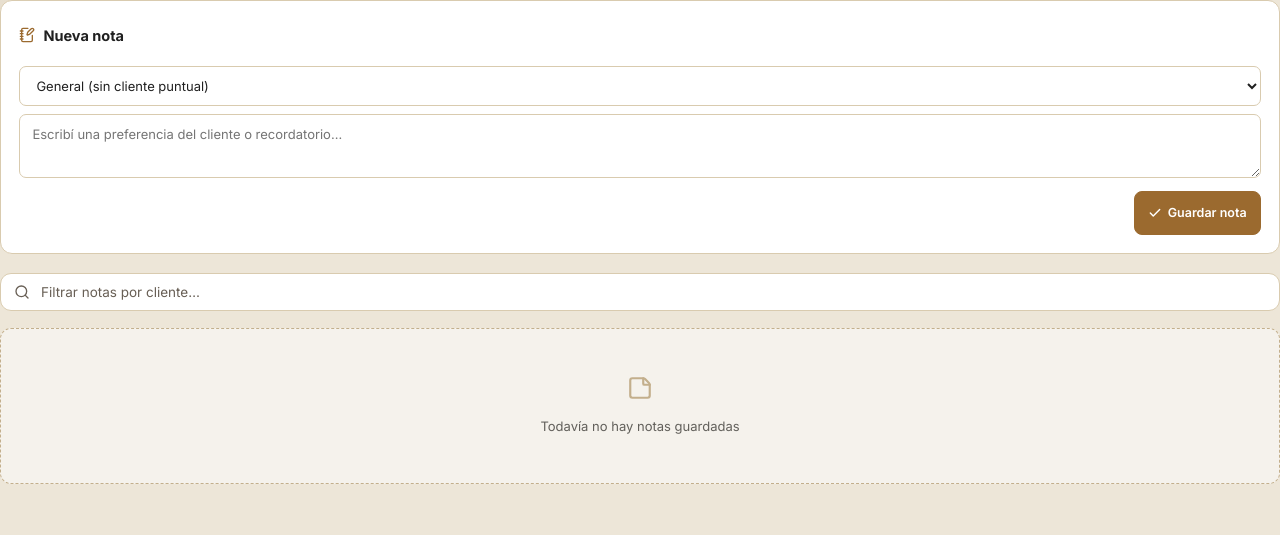
Test case: Notas: identidad estable de cliente (43) › un error de creación conserva texto y selección
Select "Juan · …0002" in the dropdown named "Cliente de la nota" at point(640, 86), box [19, 66, 1261, 106]
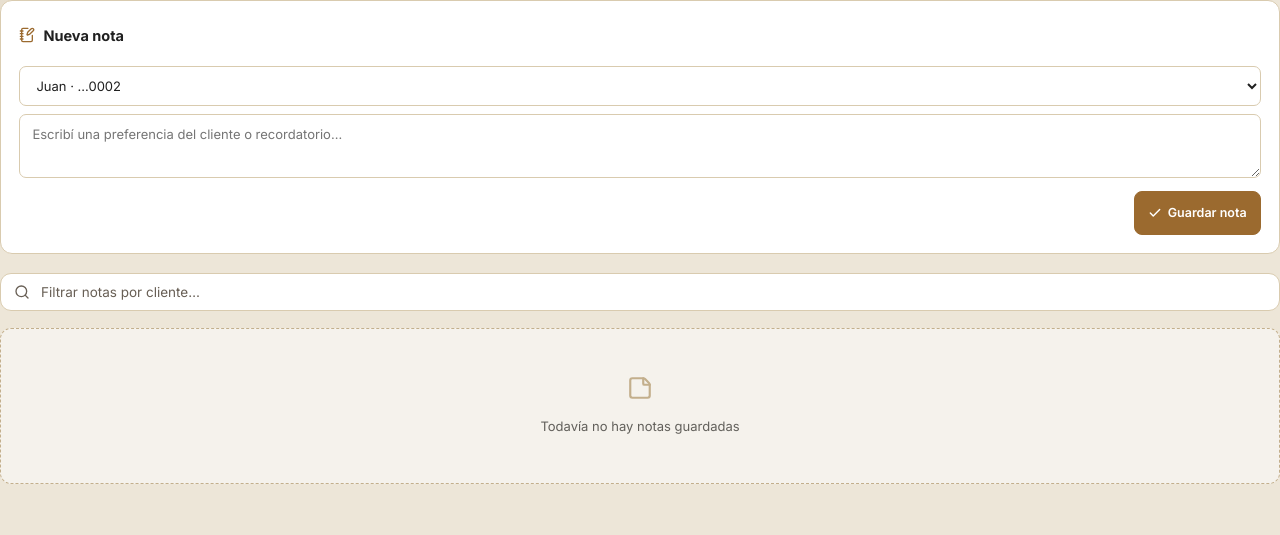
Type "Borrador" into the text box named "Contenido de la nota" at point(640, 146), box [19, 114, 1261, 178]
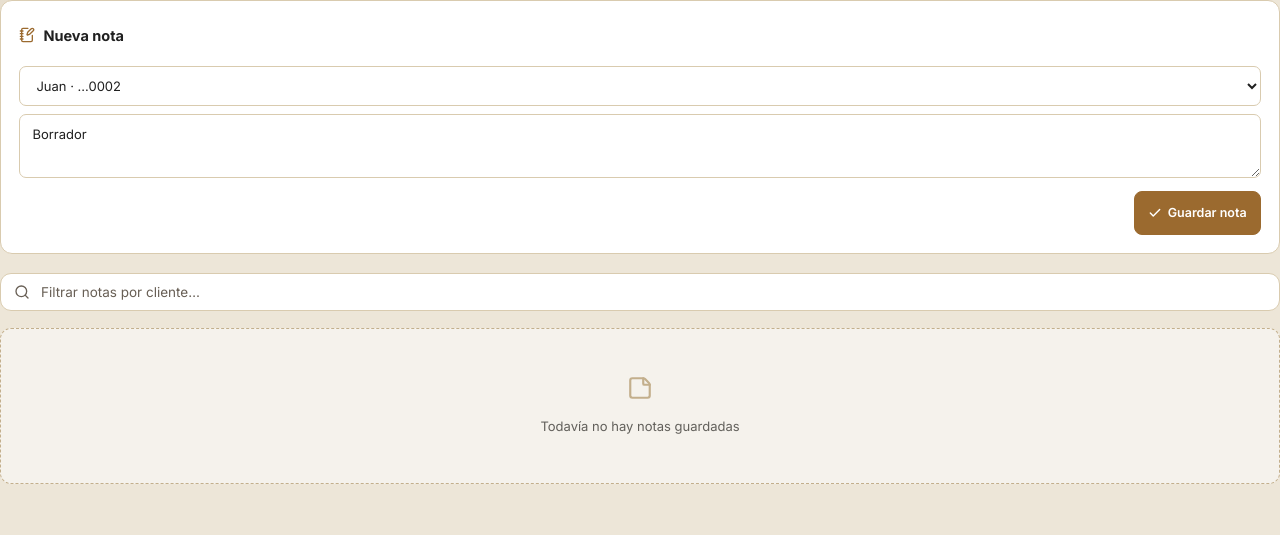
Click the button "Guardar nota" at point(1197, 213), box [1134, 191, 1261, 235]
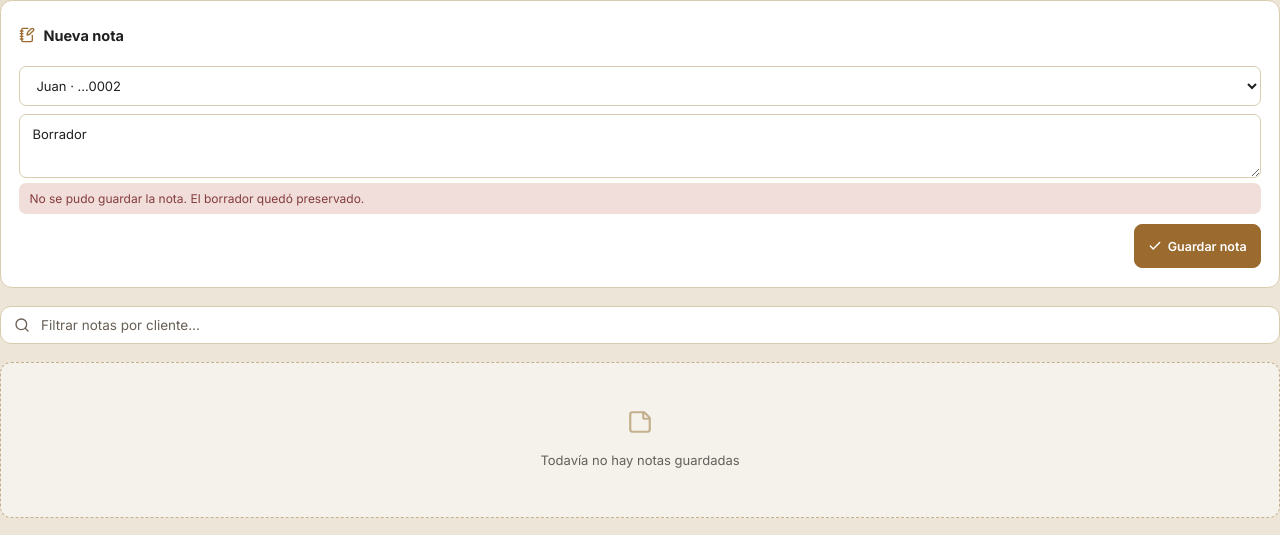
Expected: the text "No se pudo guardar la nota. El borrador quedó preservado." is shown, [19, 183, 1261, 214]
